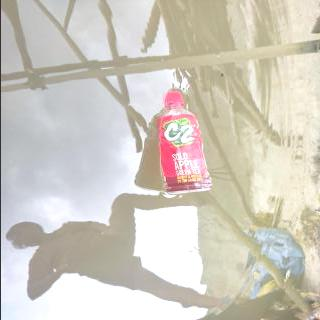bottle: (154, 88, 212, 196)
